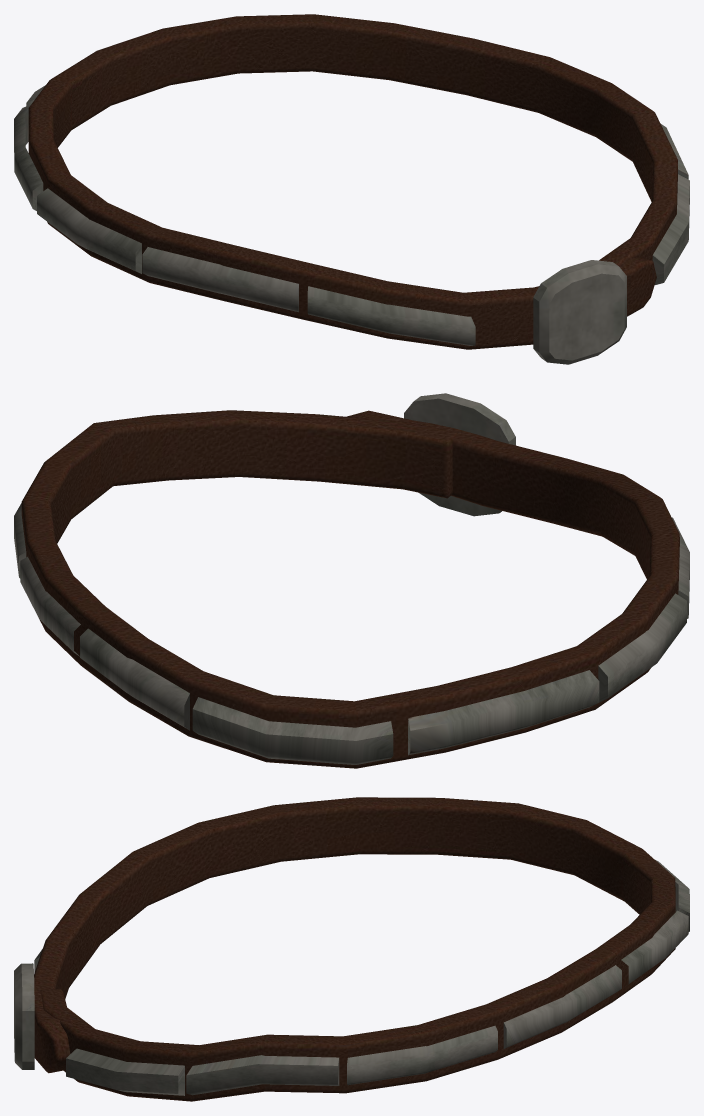
File: heavy_belt.glb
3 views of the same model, one above another, from view 1: azimuth 30°, elevation 25°; view 2: azimuth 150°, elevation 25°; view 3: azimuth 270°, elevation 25° (orthographic). The views are drawn at different scales.
Visible parts, largest first — view 1: heavy_belt; view 2: heavy_belt; view 3: heavy_belt.
Part boxes in pixels (x1,y1,x2,y2): heavy_belt: (14,14,689,364); heavy_belt: (14,393,689,768); heavy_belt: (14,797,689,1101).
Bounding box in the file's own units: 0.2272 × 0.0498 × 0.2486.
Materials: 1 (1 with a texture image).
